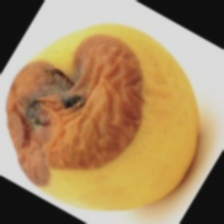apple: (27, 51, 167, 192)
